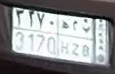0: (46, 20, 56, 56)
1: (26, 10, 35, 54)
3: (13, 9, 26, 52)
7: (36, 12, 46, 53)
B: (81, 25, 93, 58)
H: (58, 20, 71, 54)
Z: (70, 20, 81, 56), (71, 20, 80, 56)
